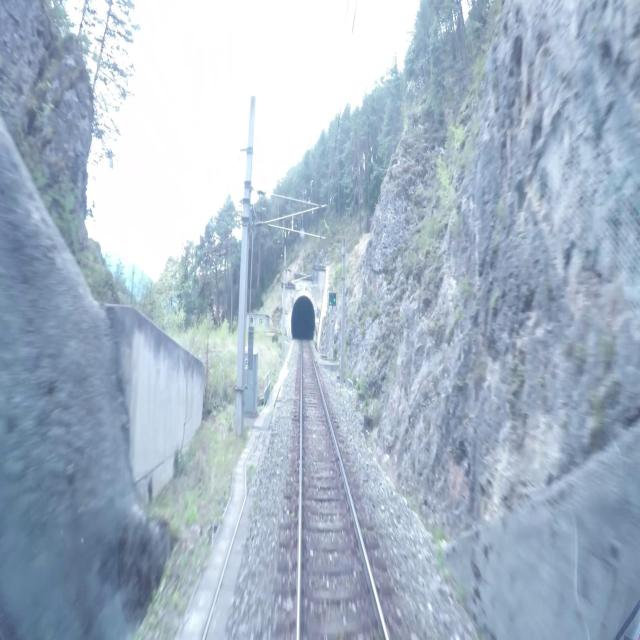rail-track: (300, 323, 384, 639)
